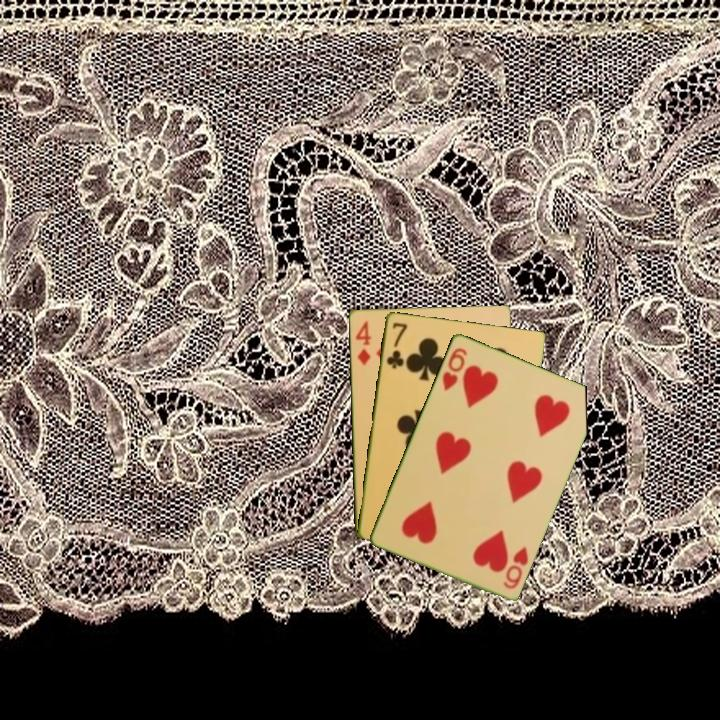4d: (352, 317, 374, 368)
6h: (438, 344, 470, 393), (499, 543, 531, 592)
7c: (383, 319, 409, 371)
